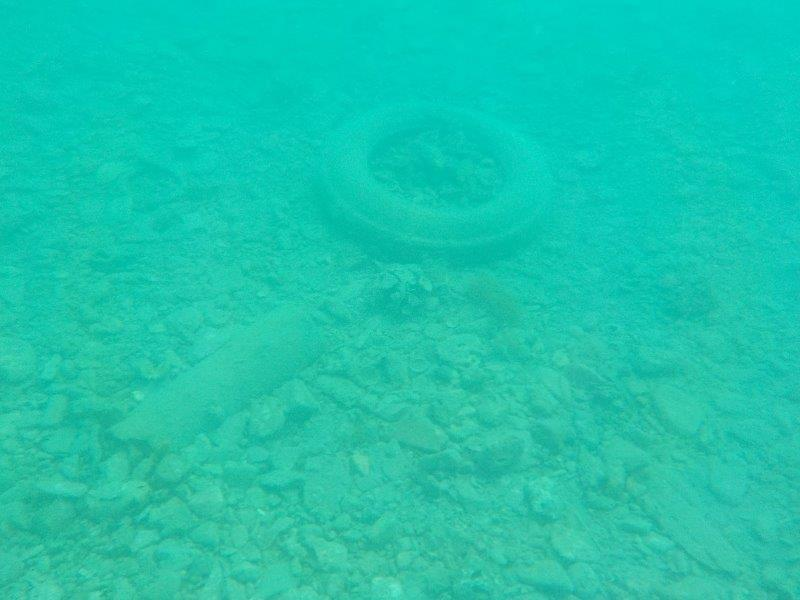tire: (314, 94, 560, 269)
